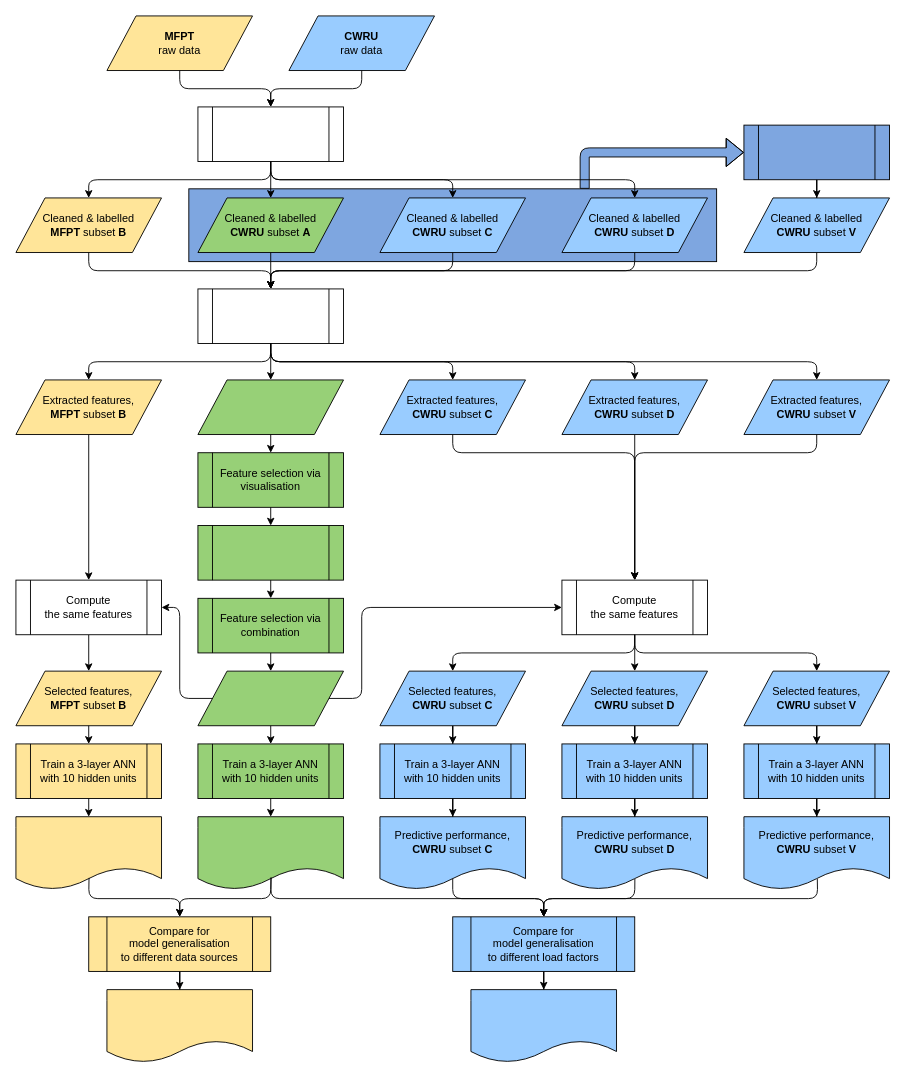
Image size: 905x1078. Some labels were removed from this diagram. The centre of each missing label's shape, as x and y in pixels:
"Baseline: Predictive performance, CWRU subset A" belongs at pixel 270 853.
"Combine" belongs at pixel 816 152.
"Data Cleaning" belongs at pixel 270 134.
"Extent of generalisation to different data sources" belongs at pixel 179 1025.
"Extent of generalisation to different load factors" belongs at pixel 543 1025.
"Extracted features, CWRU subset A" belongs at pixel 270 407.
"Feature extraction" belongs at pixel 270 316.
"Feature selection via modelling" belongs at pixel 270 552.
"Predictive performance, MFPT subset B" belongs at pixel 88 853.
"Selected features, CWRU subset A" belongs at pixel 270 698.
